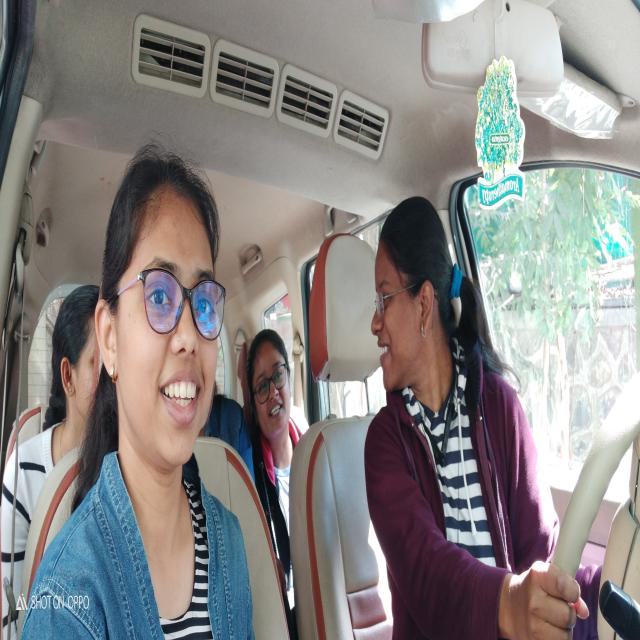LeftRight: (372, 196, 459, 412)
person: (96, 141, 227, 487), (49, 281, 104, 453), (248, 326, 294, 452)
talking: (375, 324, 392, 375)
